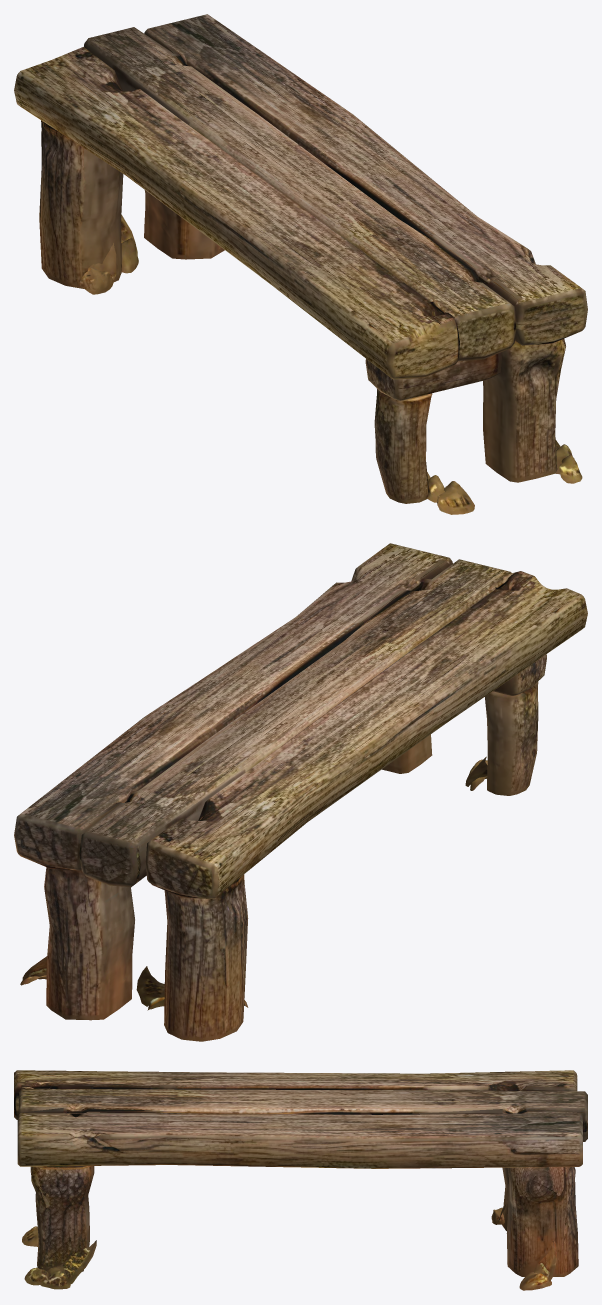
Rendered from sceniclandscape.full.glb.
The picture shows the model from 3 angles, top to bottom: view 1: azimuth 30°, elevation 25°; view 2: azimuth 150°, elevation 25°; view 3: azimuth 270°, elevation 25°; orthographic projection. The views are drawn at different scales.
Visible parts, largest first — view 1: model; view 2: model; view 3: model.
Boxes of the visible parts, x1,y1,x2,y2 form: model: (14,14,587,514); model: (14,543,587,1041); model: (14,1070,587,1290).
Bounding box in the file's own units: 0.1294 × 0.1133 × 0.3901.
Materials: 1 (1 with a texture image).
